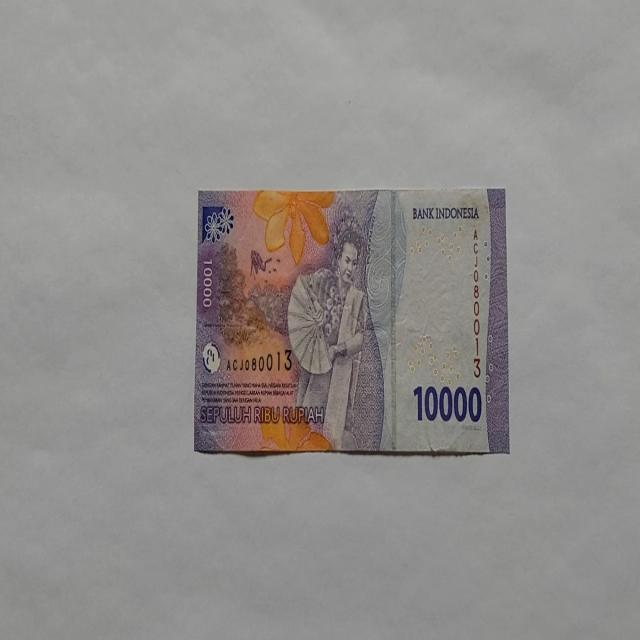sepuluh ribu rupiah: (193, 186, 509, 457)
